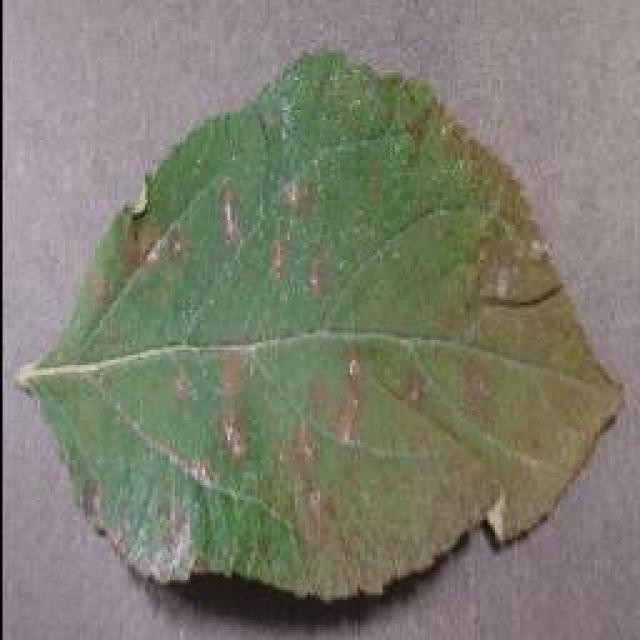apple cedar apple rust: (13, 43, 625, 605)
